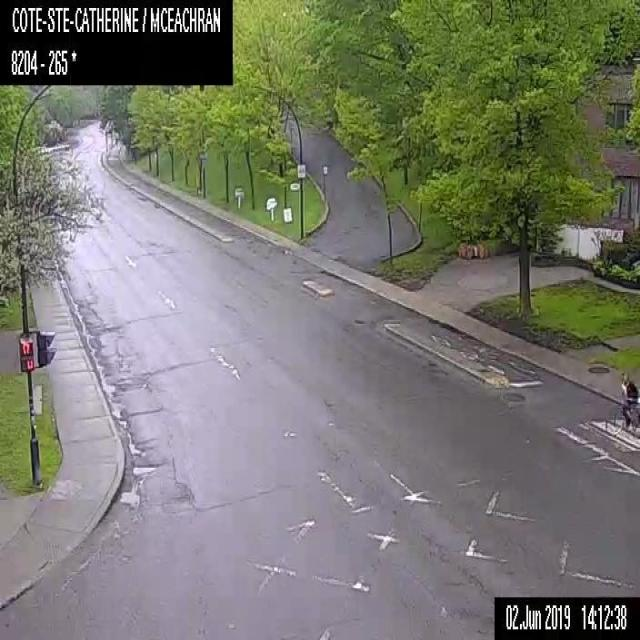cyclist: (607, 373, 639, 432)
